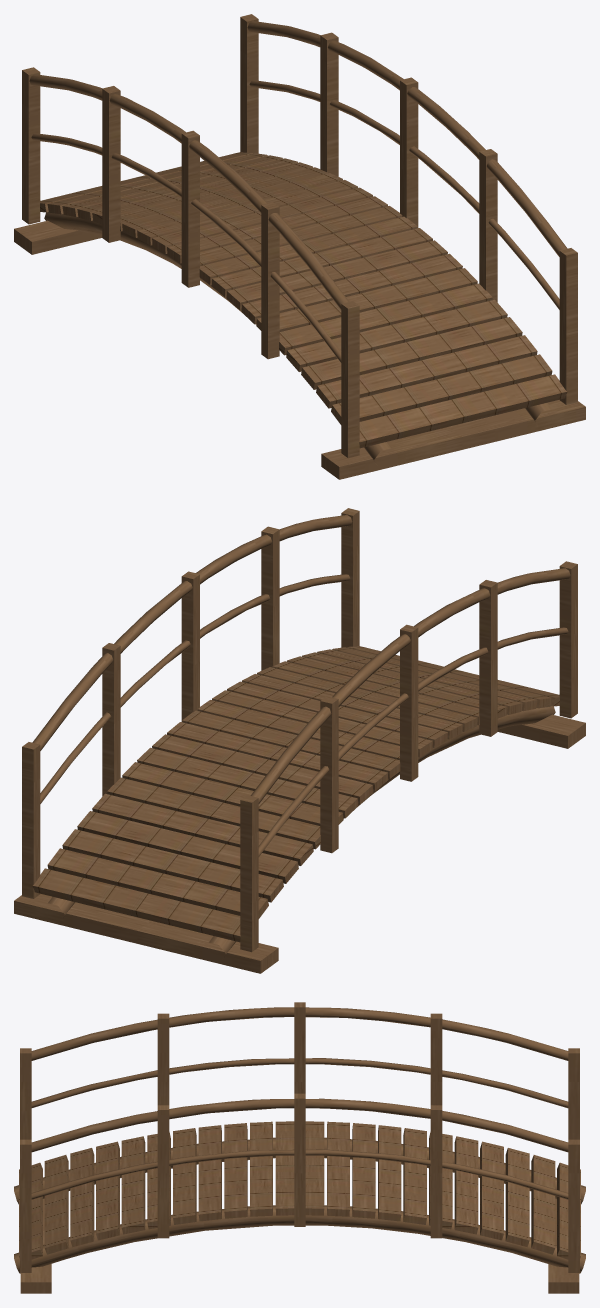
File: bridge.lod1.glb
3 renders of one model, top to bottom at view 1: azimuth 30°, elevation 25°; view 2: azimuth 150°, elevation 25°; view 3: azimuth 270°, elevation 25°, orthographic. The views are drawn at different scales.
Visible parts, largest first — view 1: Bridge_oakPlanks, Bridge_oak; view 2: Bridge_oakPlanks, Bridge_oak; view 3: Bridge_oakPlanks, Bridge_oak.
Part boxes in pixels (bbox=[...]): Bridge_oakPlanks: bbox=[40, 152, 567, 448]; Bridge_oak: bbox=[14, 14, 585, 479]; Bridge_oakPlanks: bbox=[32, 646, 559, 942]; Bridge_oak: bbox=[14, 508, 585, 973]; Bridge_oakPlanks: bbox=[19, 1121, 580, 1259]; Bridge_oak: bbox=[14, 1002, 585, 1293].
Size of the model in its own units: 1.9 by 1.64 by 4.44.
2 materials, 2 textured.
